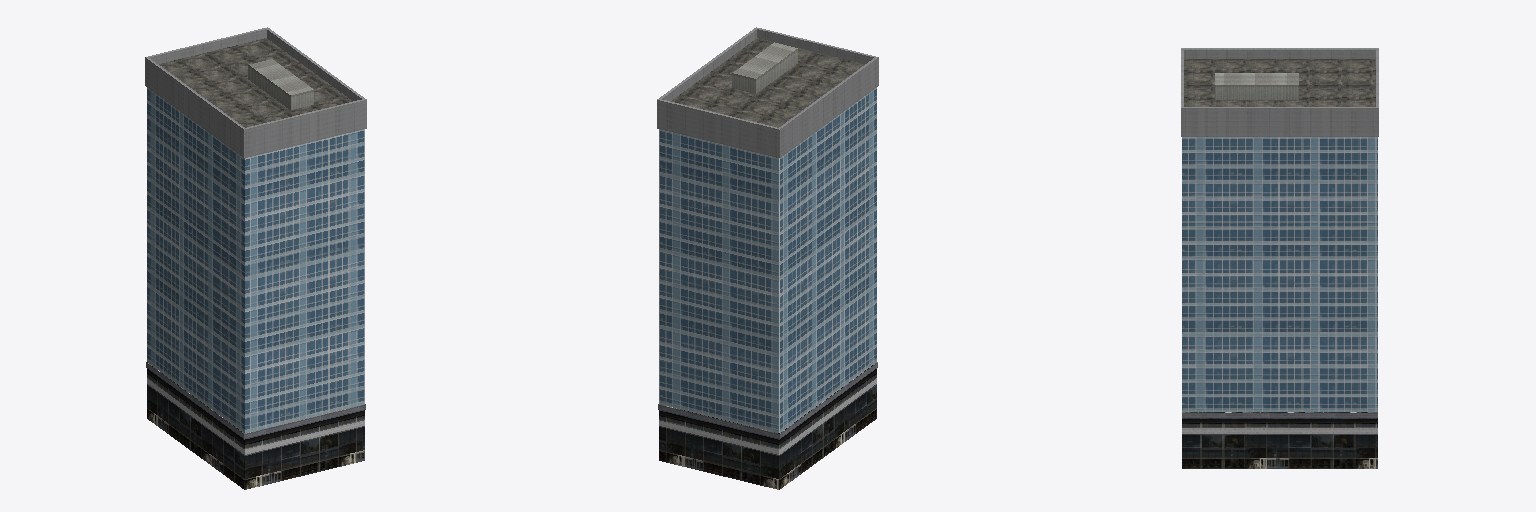
The picture shows the model from 3 angles: view 1: azimuth 30°, elevation 25°; view 2: azimuth 150°, elevation 25°; view 3: azimuth 270°, elevation 25°; orthographic projection.
Parts seen in each view (by area): view 1: building_32; view 2: building_32; view 3: building_32.
Part boxes in pixels (left/top/right/bottom): building_32: left=145, top=27, right=366, bottom=489; building_32: left=657, top=27, right=878, bottom=489; building_32: left=1181, top=48, right=1378, bottom=468.
Size of the model in its own units: 89.37 by 255 by 125.
Materials: 1 (1 with a texture image).